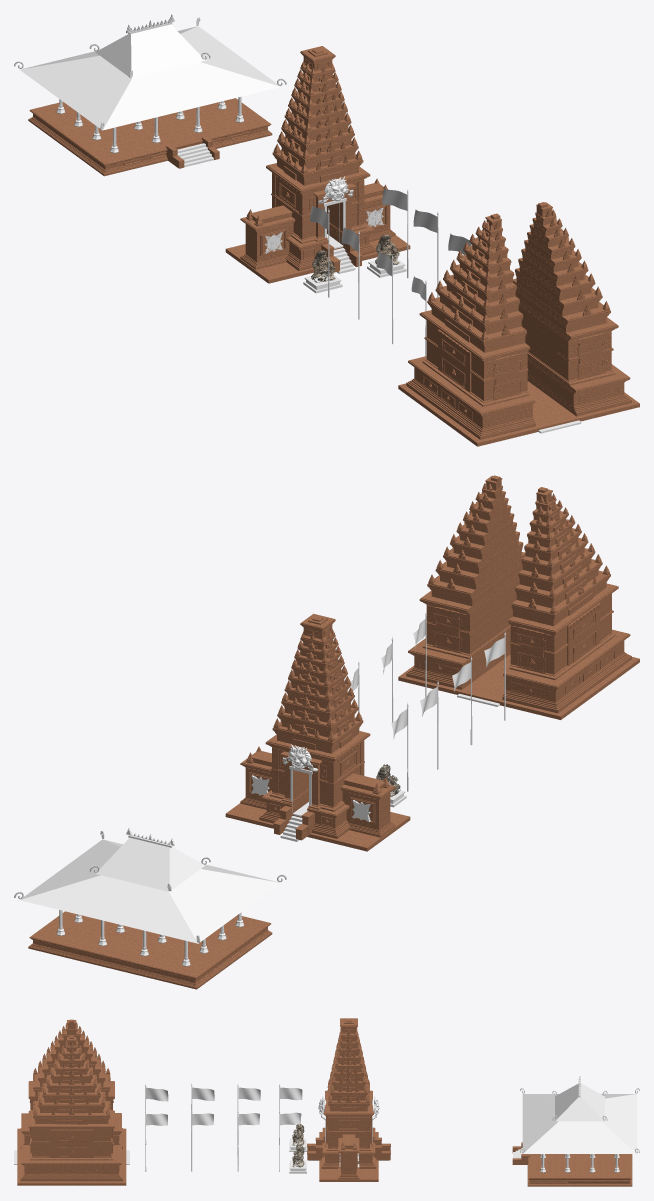
The model's file is majapahit.glb.
3 renders of one model, top to bottom at view 1: azimuth 30°, elevation 25°; view 2: azimuth 150°, elevation 25°; view 3: azimuth 270°, elevation 25°, orthographic. The views are drawn at different scales.
Parts seen in each view (by area): view 1: MJP3_Bentar_Bata, MJP3_Paduraksa_Bata, MJP3_Pendopo_Genteng, MJP3_Pendopo_Bata, MJP3_Pendopo_Andesit, MJP3_Lapik, MJP3_Paduraksa_Andesit; view 2: MJP3_Bentar_Bata, MJP3_Paduraksa_Bata, MJP3_Pendopo_Genteng, MJP3_Pendopo_Bata, MJP3_Paduraksa_Andesit; view 3: MJP3_Bentar_Bata, MJP3_Paduraksa_Bata, MJP3_Pendopo_Genteng, MJP3_Pendopo_Bata, MJP3_Lapik, MJP3_Panji.003, MJP3_Panji.005, MJP3_Panji.001, MJP3_Panji.007, MJP3_Pendopo_Andesit, MJP3_Panji, MJP3_Panji.002 (+1 smaller).
Part boxes in pixels (x1=…): MJP3_Bentar_Bata: x1=398, y1=202, x2=639, y2=446; MJP3_Paduraksa_Bata: x1=225, y1=46, x2=410, y2=283; MJP3_Pendopo_Genteng: x1=20, y1=24, x2=280, y2=130; MJP3_Pendopo_Bata: x1=28, y1=98, x2=272, y2=176; MJP3_Pendopo_Andesit: x1=56, y1=102, x2=243, y2=167; MJP3_Lapik: x1=303, y1=259, x2=406, y2=293; MJP3_Paduraksa_Andesit: x1=323, y1=198, x2=355, y2=273; MJP3_Bentar_Bata: x1=398, y1=475, x2=639, y2=719; MJP3_Paduraksa_Bata: x1=225, y1=613, x2=410, y2=851; MJP3_Pendopo_Genteng: x1=19, y1=837, x2=280, y2=943; MJP3_Pendopo_Bata: x1=28, y1=911, x2=272, y2=989; MJP3_Paduraksa_Andesit: x1=280, y1=766, x2=312, y2=841; MJP3_Bentar_Bata: x1=17, y1=1019, x2=126, y2=1185; MJP3_Paduraksa_Bata: x1=307, y1=1018, x2=390, y2=1181; MJP3_Pendopo_Genteng: x1=522, y1=1083, x2=637, y2=1153; MJP3_Pendopo_Bata: x1=512, y1=1142, x2=632, y2=1186; MJP3_Lapik: x1=289, y1=1138, x2=306, y2=1173; MJP3_Panji.003: x1=192, y1=1087, x2=214, y2=1100; MJP3_Panji.005: x1=238, y1=1087, x2=260, y2=1100; MJP3_Panji.001: x1=146, y1=1087, x2=168, y2=1101; MJP3_Panji.007: x1=280, y1=1087, x2=302, y2=1100; MJP3_Pendopo_Andesit: x1=513, y1=1148, x2=619, y2=1172; MJP3_Panji: x1=146, y1=1113, x2=167, y2=1125; MJP3_Panji.002: x1=192, y1=1113, x2=213, y2=1125.
Bounding box in the file's own units: 15.99 × 16.5 × 67.75.
Materials: 14 (2 with a texture image).
